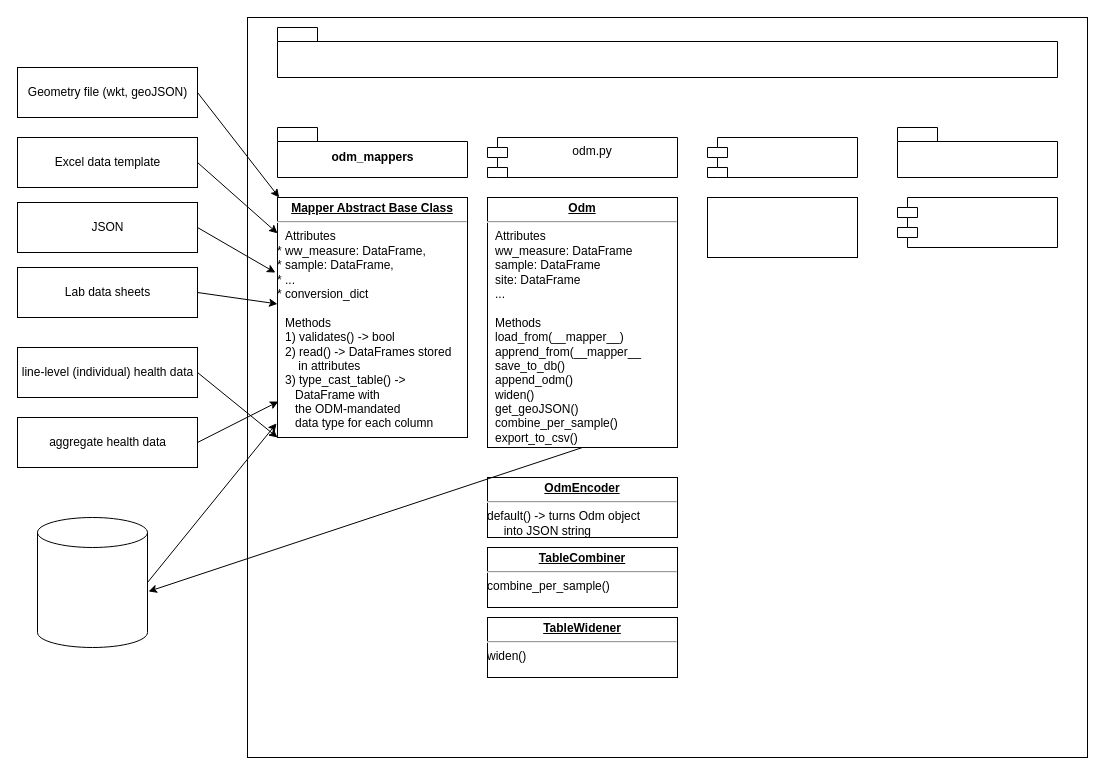
Image size: 1105x775. Some labels were removed from this diagram. The box of each missing label's shape, as (x1, y1, x2, y2) in pixels:
DB: (36, 516, 148, 648)
keep_only_features() reduce() convert_wkt_to_geojson: (706, 196, 858, 258)
utilities.py: (706, 136, 858, 178)
visualisation_helpers.py: (896, 196, 1058, 248)
wbe_odm: (276, 26, 1058, 78)
wbe_tools: (896, 126, 1058, 178)
